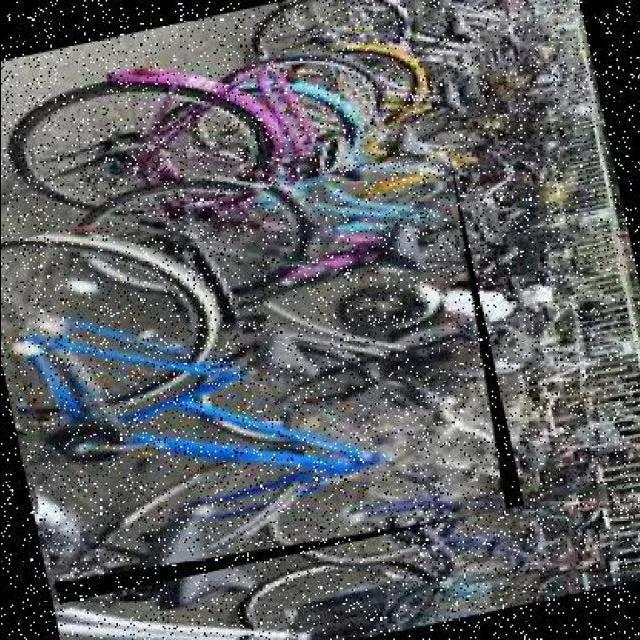bicycle: (3, 150, 527, 608)
